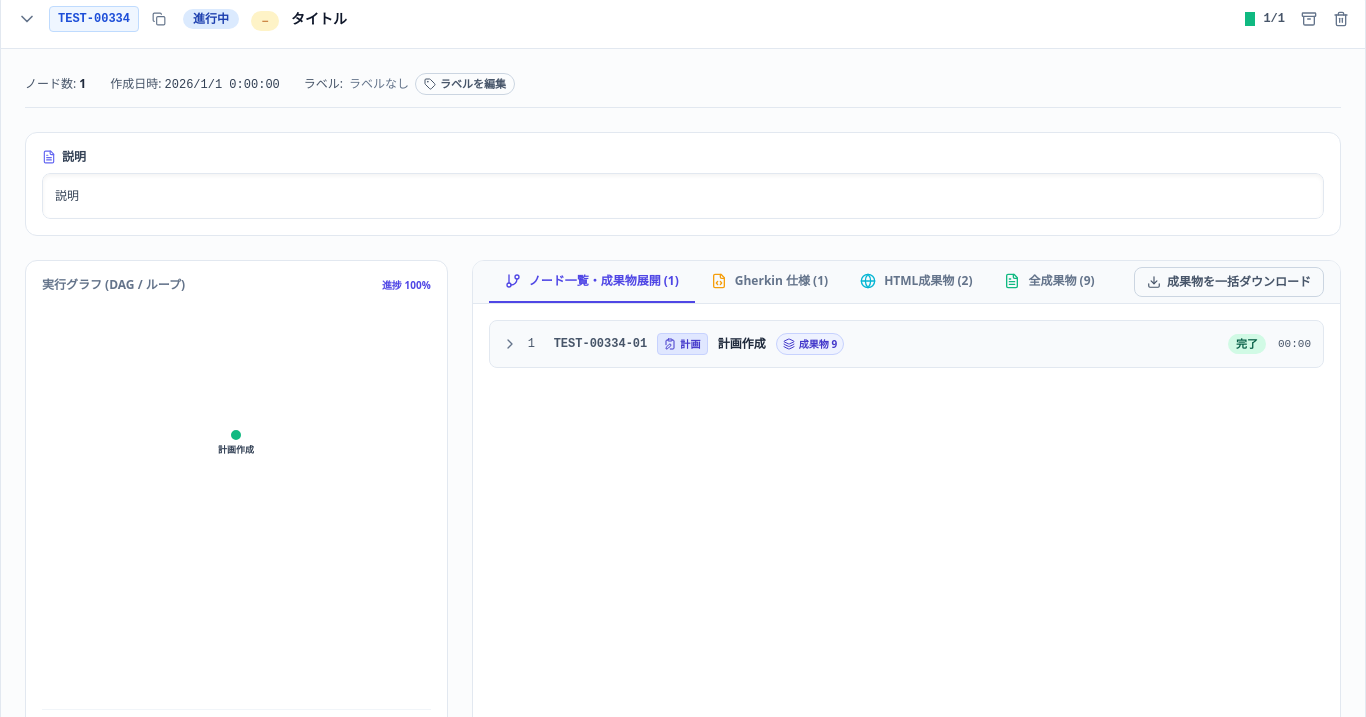
Scenario: DFLT-00334 node artifact header rows wrap under 80rem › leaves only the badge in the right group when there is nothing to download
Click the text "計画作成": (742, 344) [718,336,766,352]
(page scrolled)
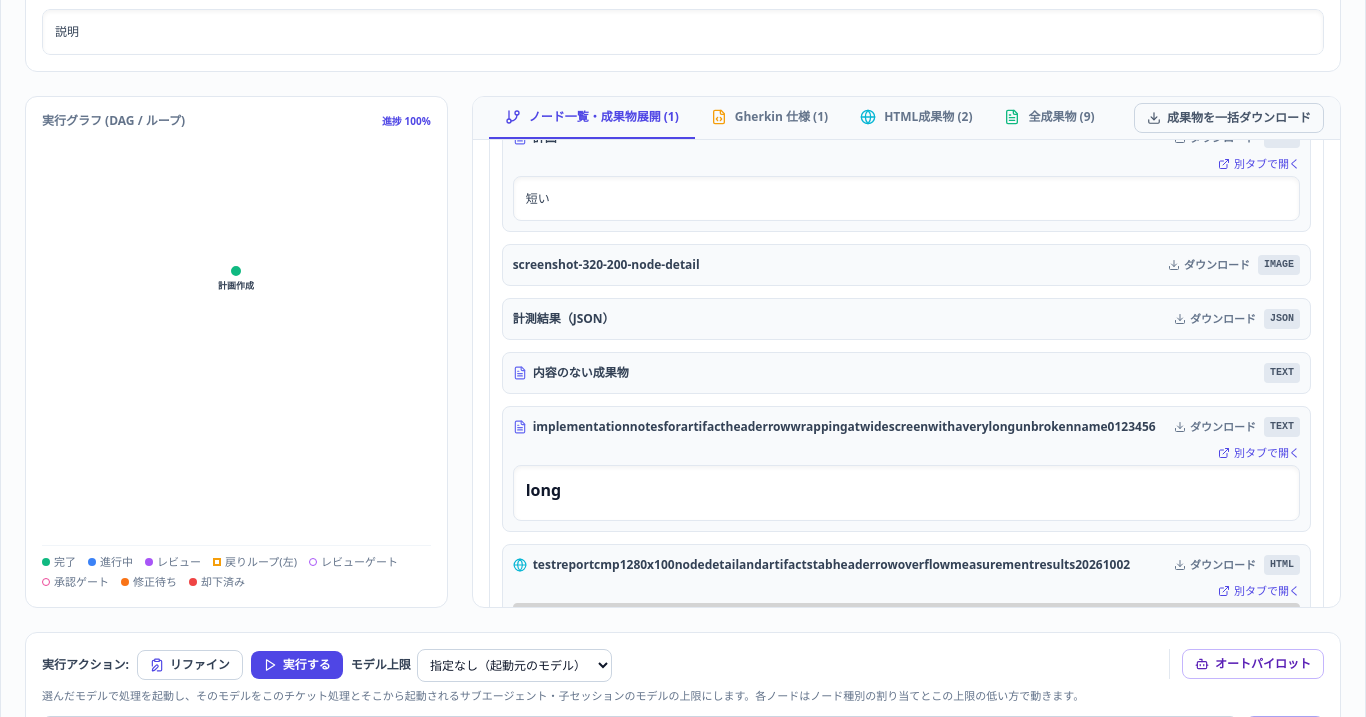
expect the text "text" in the row of "内容のない成果物" is shown: met, box [1270,367,1294,378]
